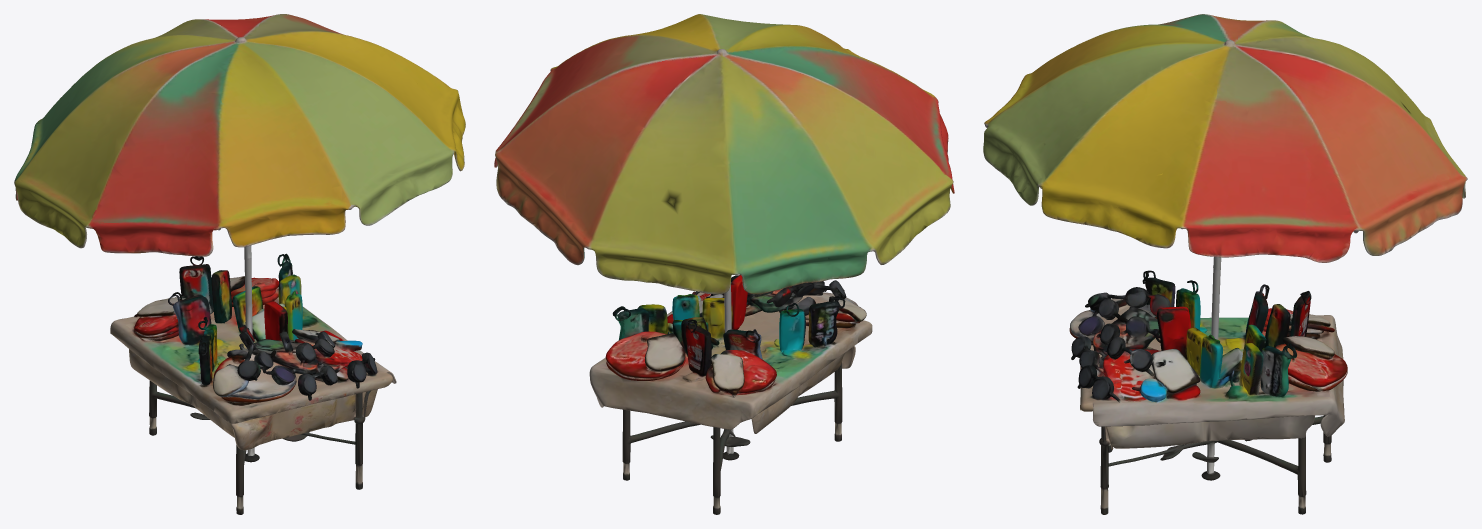
The model's file is umbrella.glb.
3 views of the same model, side by side, from view 1: azimuth 30°, elevation 25°; view 2: azimuth 150°, elevation 25°; view 3: azimuth 270°, elevation 25° (orthographic). The views are drawn at different scales.
Parts seen in each view (by area): view 1: tripo_node_011be8e5-6927-4892-9066-10e443fe7752; view 2: tripo_node_011be8e5-6927-4892-9066-10e443fe7752; view 3: tripo_node_011be8e5-6927-4892-9066-10e443fe7752.
Boxes of the visible parts, x1,y1,x2,y2 form: tripo_node_011be8e5-6927-4892-9066-10e443fe7752: (14,14,465,514); tripo_node_011be8e5-6927-4892-9066-10e443fe7752: (494,14,954,514); tripo_node_011be8e5-6927-4892-9066-10e443fe7752: (983,14,1467,514).
Bounding box in the file's own units: 1.74 × 1.8 × 1.78.
Materials: 1 (1 with a texture image).
